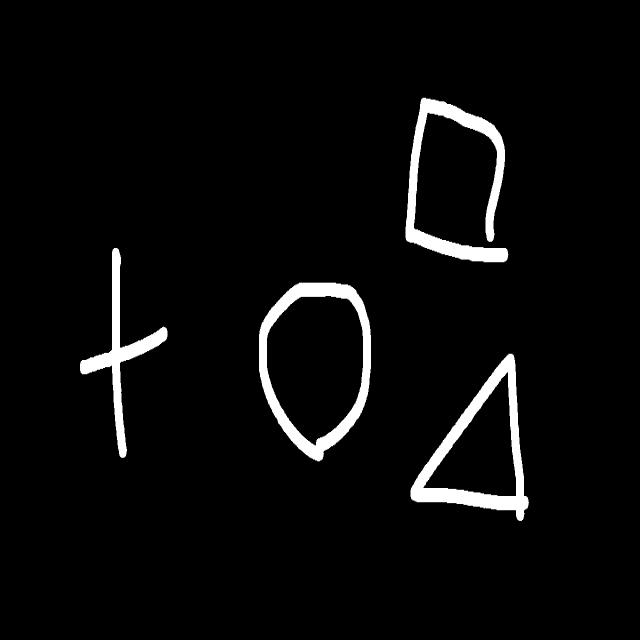Circle: (258, 279, 372, 459)
Cross: (78, 242, 168, 457)
Square: (403, 93, 509, 260)
Triangle: (408, 348, 530, 517)
